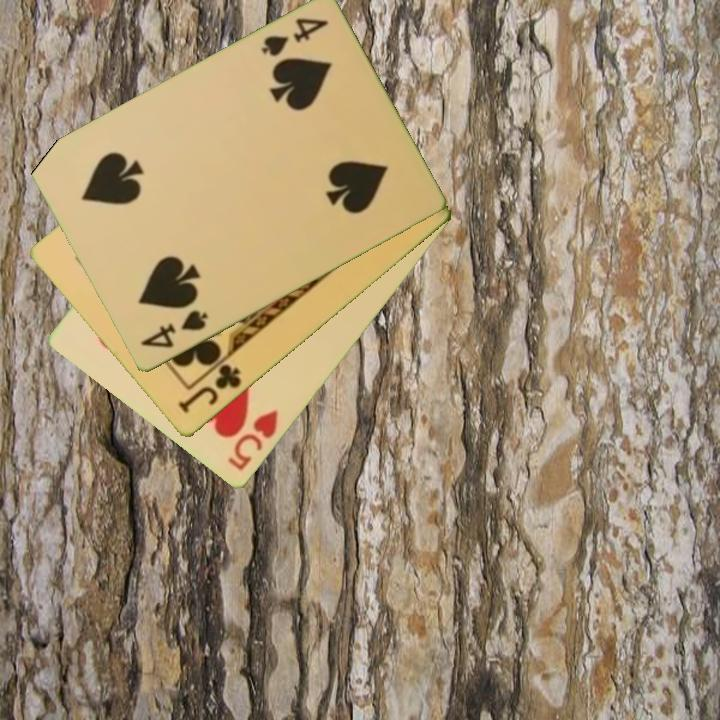4s: (257, 14, 332, 61), (136, 307, 211, 352)
5h: (224, 406, 282, 475)
Jc: (174, 361, 245, 417)
